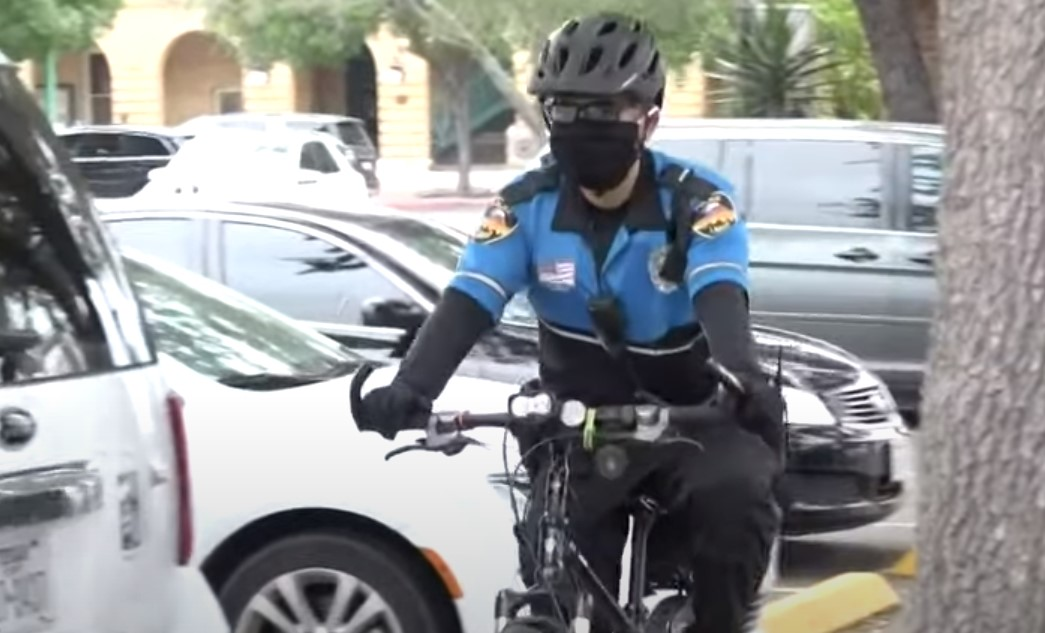face_with_mask: (525, 9, 676, 207)
